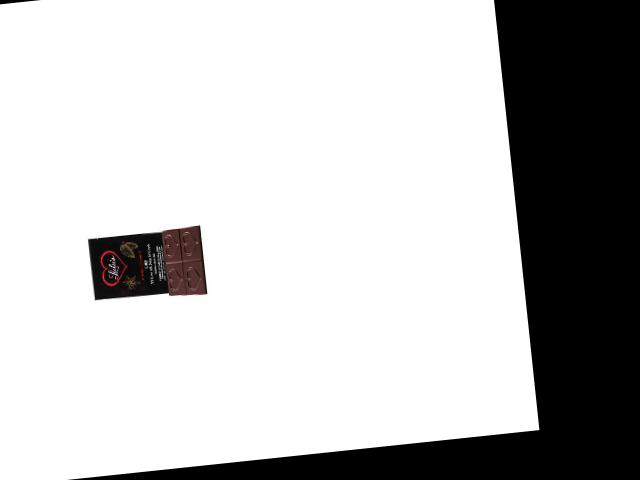chocolate: (86, 222, 212, 311)
